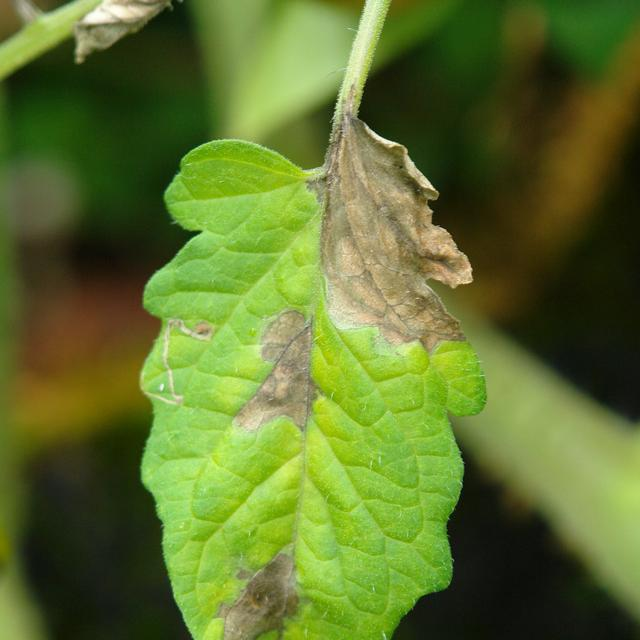Tomato leaf late blight: (127, 115, 495, 640)
